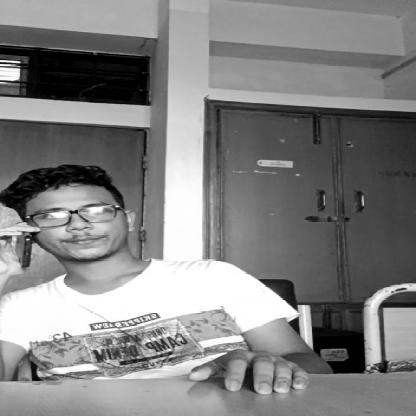Normal: (0, 172, 147, 273), (0, 229, 58, 280)
